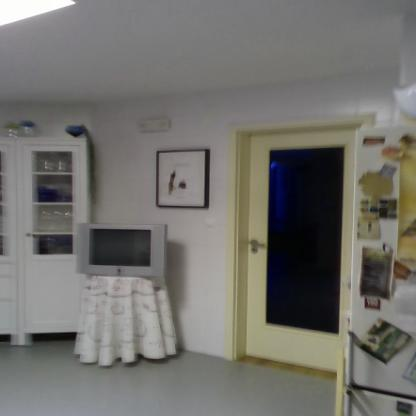door: (244, 136, 344, 369)
lever: (245, 240, 270, 249)
